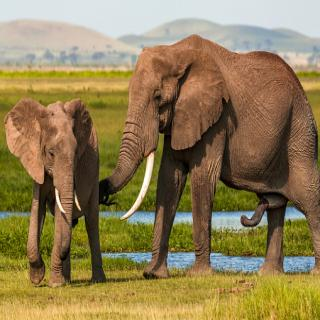Elephant: (98, 31, 320, 279), (1, 93, 108, 288)
